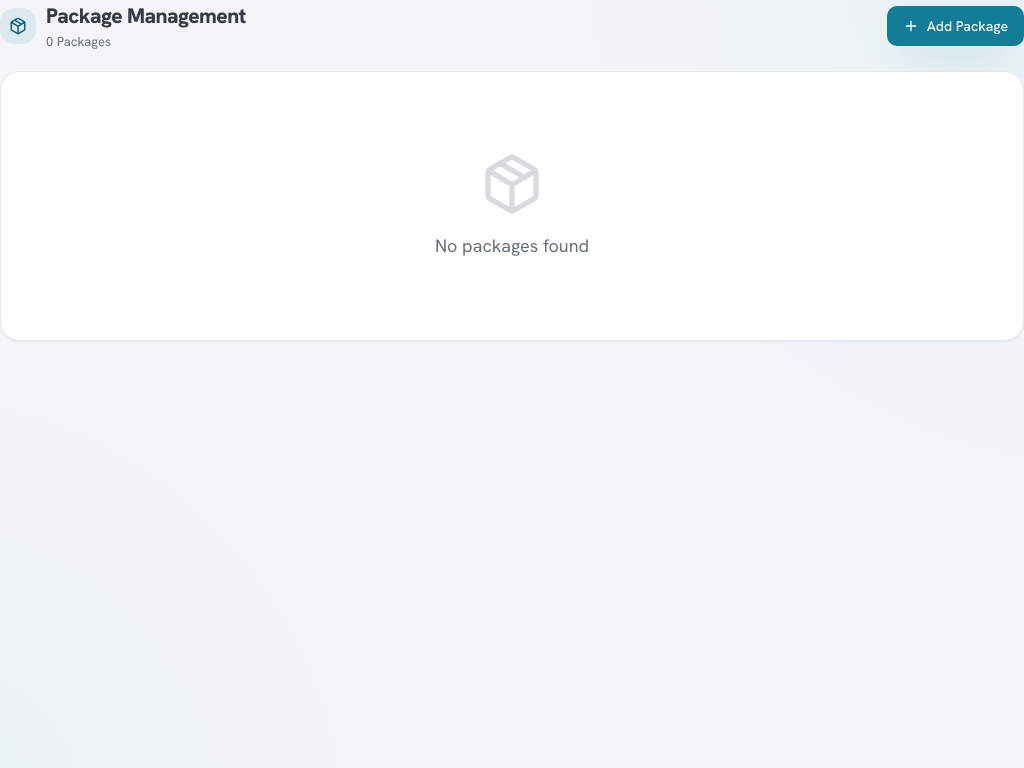
Test: PackageManagement form input labelling a11y (ISSUE-226) › names each add-package form control from its visible caption
Step 1. Click the button "Add Package" → (955, 26), box [887,6,1023,46]
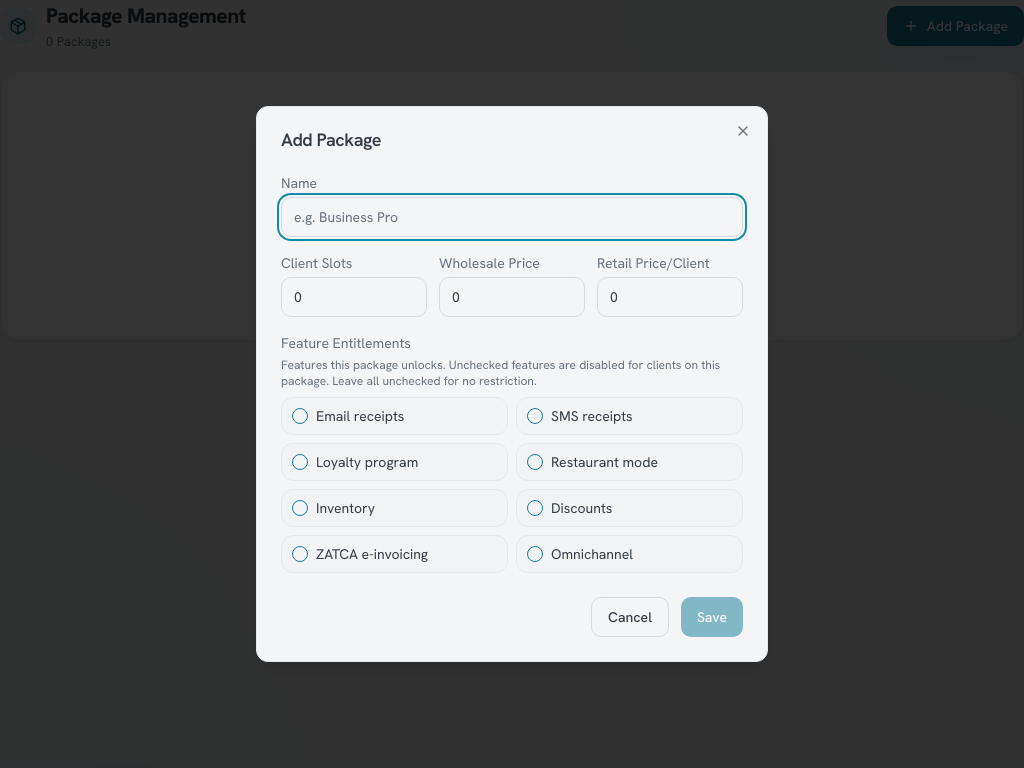
Expected: the field labelled "Name" is shown, [281,197,743,237]
Expected: the number field labelled "Client Slots" is shown, [281,277,427,317]
Expected: the number field labelled "Wholesale Price" is shown, [439,277,585,317]
